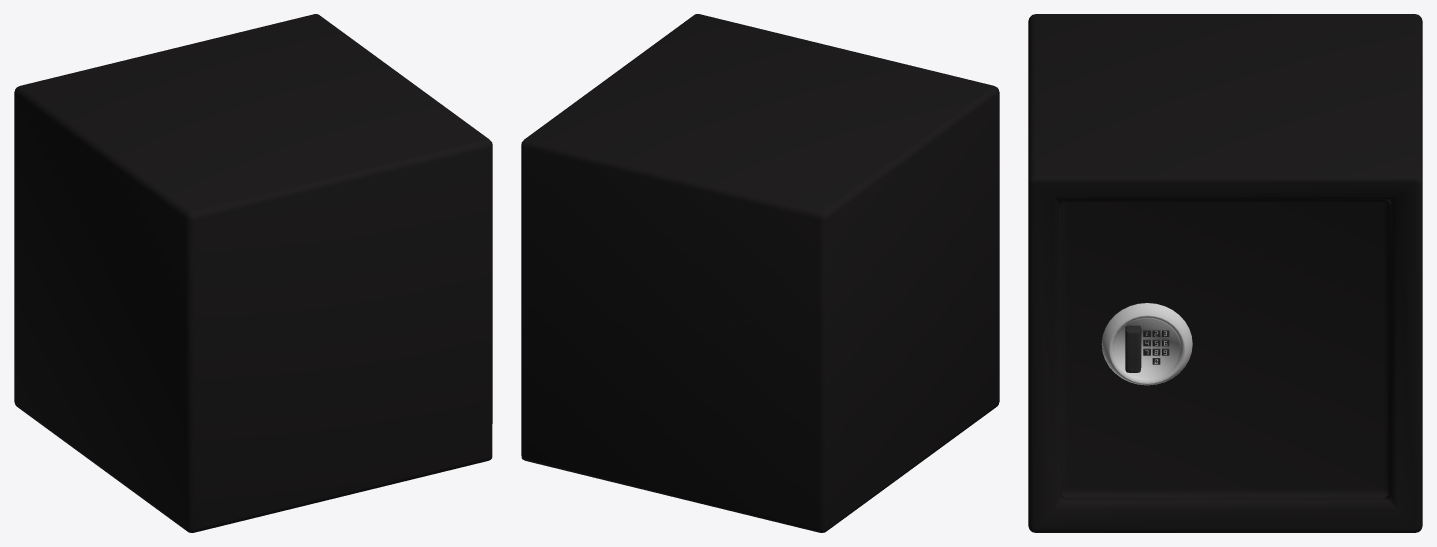
File: MD_SAFE_SEPERATE.fbx
The picture shows the model from 3 angles, left to right: view 1: azimuth 30°, elevation 25°; view 2: azimuth 150°, elevation 25°; view 3: azimuth 270°, elevation 25°; orthographic projection. The views are drawn at different scales.
Parts seen in each view (by area): view 1: SAFE BASE; view 2: SAFE BASE; view 3: SAFE BASE, Cylinder, HANDLE, 0.
Boxes of the visible parts, x1,y1,x2,y2 form: SAFE BASE: [14, 14, 492, 532]; SAFE BASE: [521, 14, 999, 532]; SAFE BASE: [1028, 14, 1422, 532]; Cylinder: [1101, 303, 1192, 385]; HANDLE: [1125, 325, 1141, 372]; 0: [1143, 330, 1169, 364].
Bounding box in the file's own units: 199 × 200 × 200.
